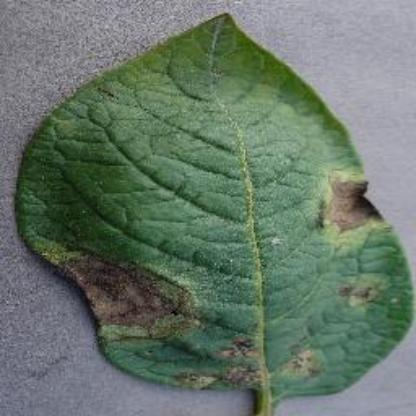Late-Blight: (14, 19, 414, 404)
